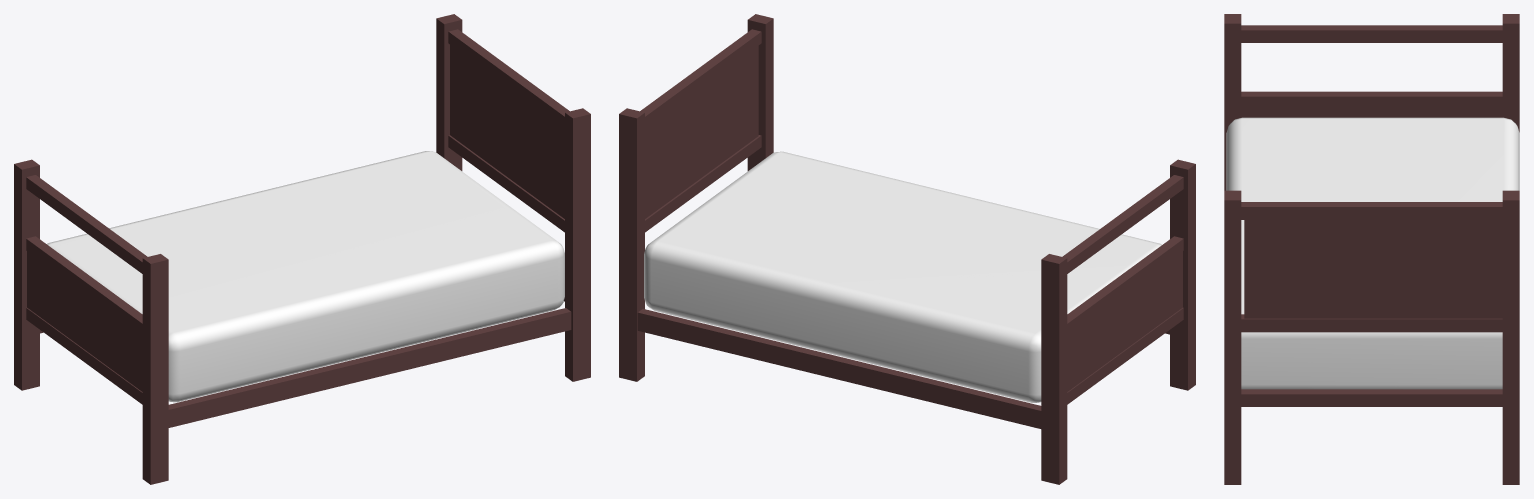
Rendered from bed2.obj.
3 renders of one model, left to right at view 1: azimuth 30°, elevation 25°; view 2: azimuth 150°, elevation 25°; view 3: azimuth 270°, elevation 25°, orthographic. The views are drawn at different scales.
Visible parts, largest first — view 1: bed2; view 2: bed2; view 3: bed2.
Boxes of the visible parts, bbox=[...] form: bed2: bbox=[14, 14, 590, 484]; bed2: bbox=[619, 14, 1195, 484]; bed2: bbox=[1224, 14, 1519, 484].
Size of the model in its own units: 2.23 by 1.27 by 1.2.
